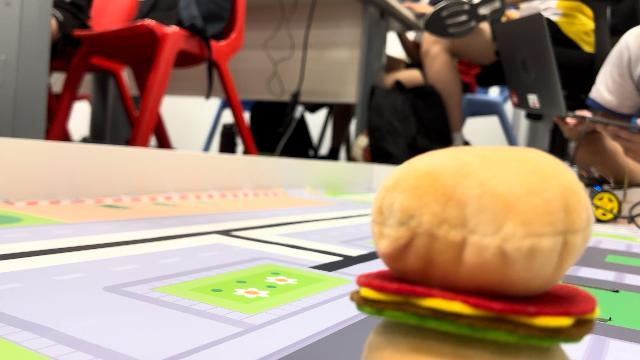burger: (350, 144, 598, 360)
